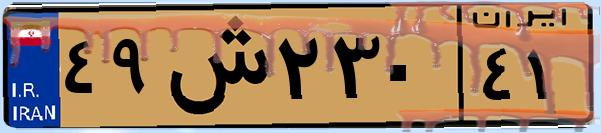0: (385, 28, 445, 110)
1: (525, 38, 570, 115)
2: (270, 28, 330, 110)
3: (330, 28, 385, 110)
4: (57, 26, 110, 100), (475, 38, 525, 113)
9: (110, 28, 158, 98)
ش: (158, 12, 270, 120)
